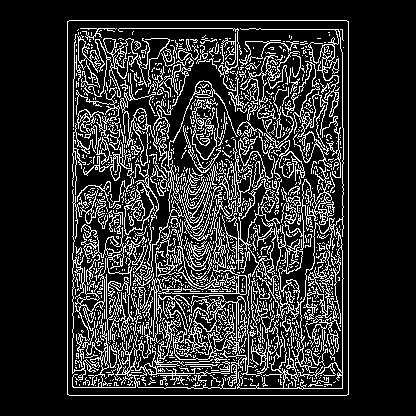buddha-sitting: (91, 185, 202, 216)
